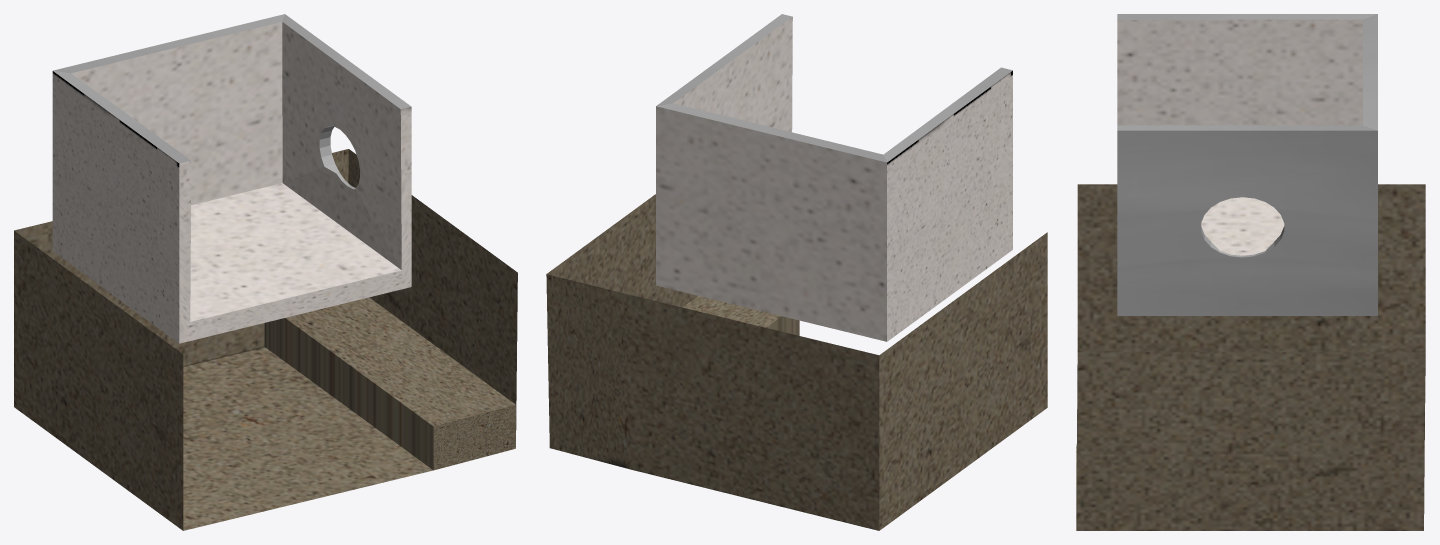
File: ralo160_montagem.glb
3 views of the same model, side by side, from view 1: azimuth 30°, elevation 25°; view 2: azimuth 150°, elevation 25°; view 3: azimuth 270°, elevation 25° (orthographic). The views are drawn at different scales.
Parts seen in each view (by area): view 1: caixa.004, caixa.005; view 2: caixa.004, caixa.005; view 3: caixa.004, caixa.005.
Part boxes in pixels (x1,y1,x2,y2): caixa.004: [14, 149, 517, 530]; caixa.005: [52, 14, 411, 343]; caixa.004: [546, 194, 1047, 530]; caixa.005: [656, 14, 1012, 341]; caixa.004: [1076, 184, 1425, 530]; caixa.005: [1117, 14, 1377, 315].
Size of what is drawn, in the model's own units: 0.2085 by 0.2081 by 0.1832.
Materials: 1 (1 with a texture image).
